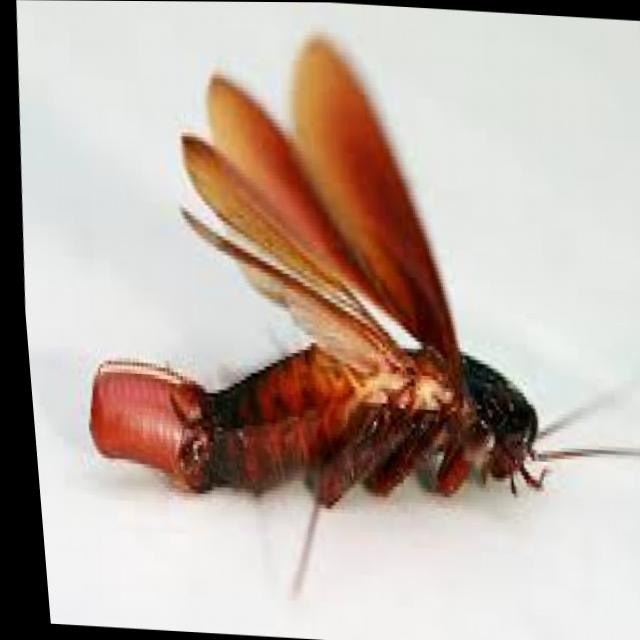Cockroach: (40, 16, 640, 623)
